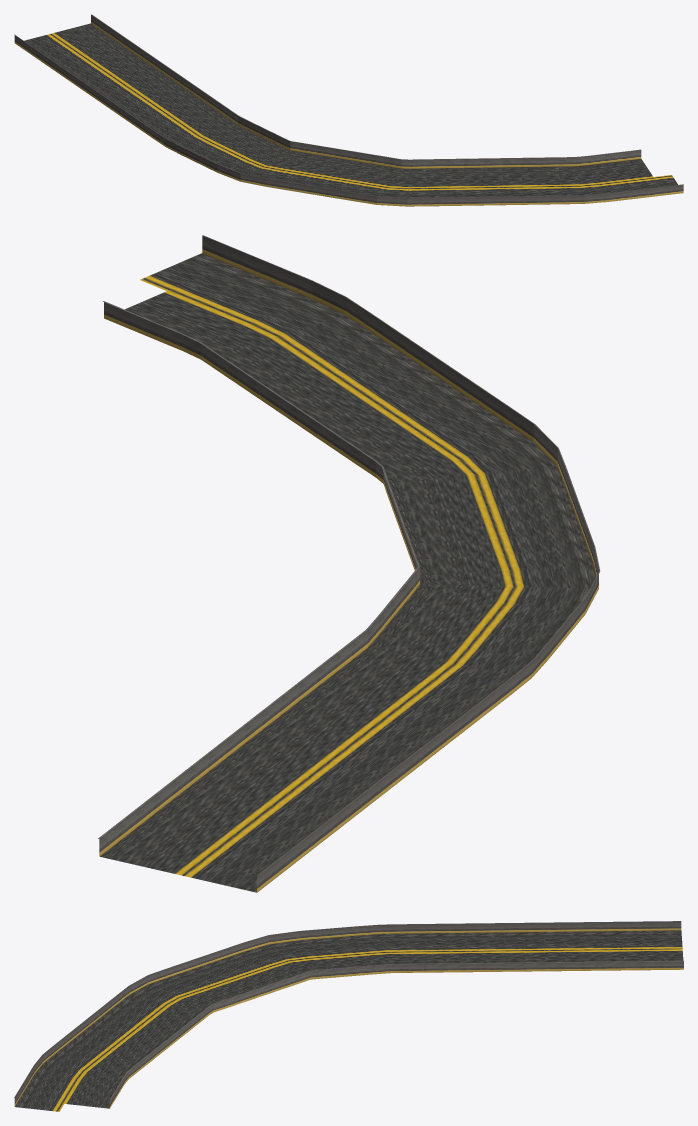
Rendered from road_block_06.obj.
3 renders of one model, top to bottom at view 1: azimuth 30°, elevation 25°; view 2: azimuth 150°, elevation 25°; view 3: azimuth 270°, elevation 25°, orthographic. The views are drawn at different scales.
Visible parts, largest first — view 1: Road_display.006_Cube.010; view 2: Road_display.006_Cube.010; view 3: Road_display.006_Cube.010.
Part boxes in pixels (<box>): Road_display.006_Cube.010: <box>14,14,683,206</box>; Road_display.006_Cube.010: <box>98,235,600,892</box>; Road_display.006_Cube.010: <box>14,921,683,1111</box>.
Bounding box in the file's own units: 67.46 × 1.57 × 105.
1 material, 1 textured.
